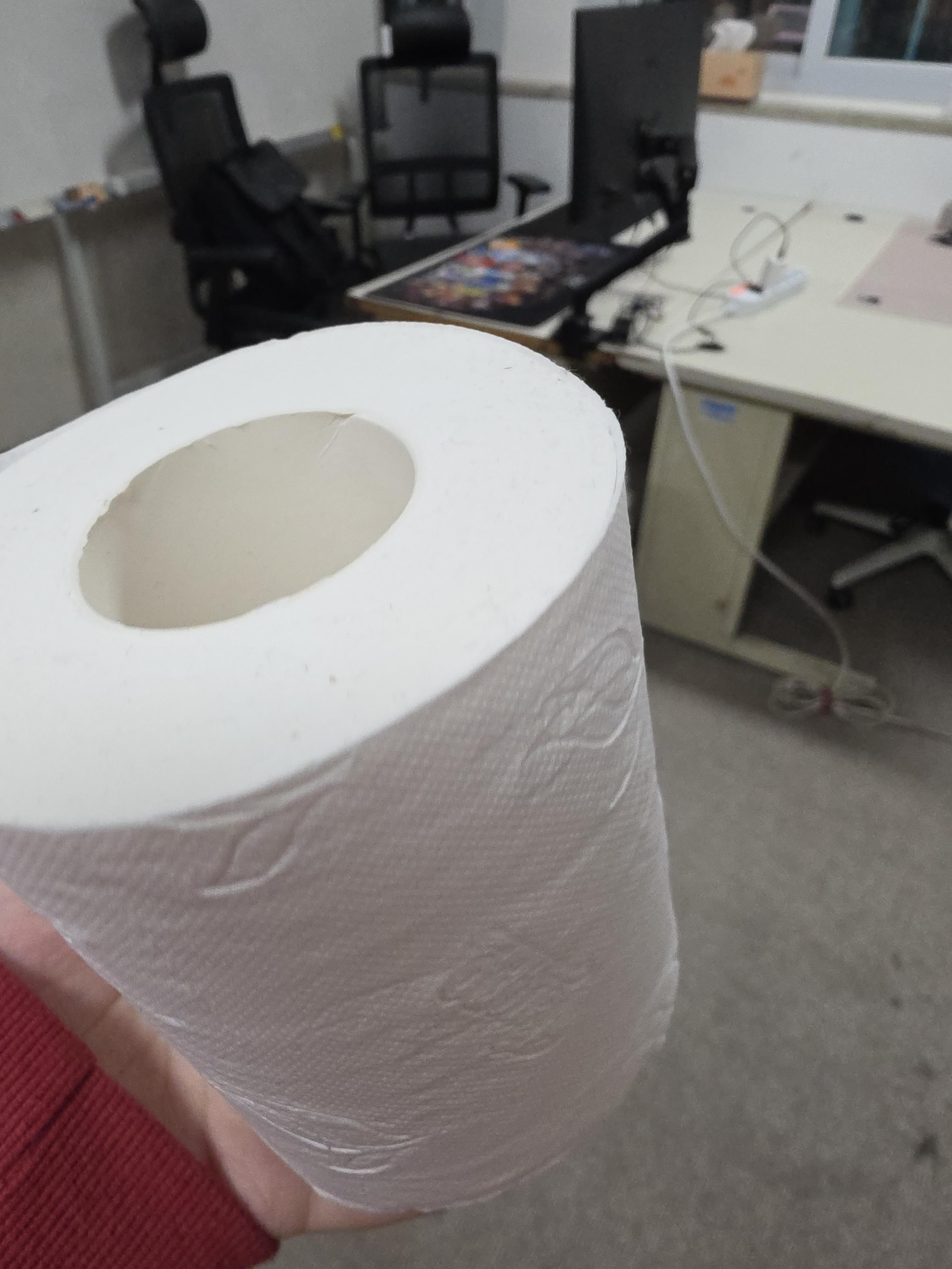tissue: (0, 320, 680, 1214), (697, 17, 764, 102)
